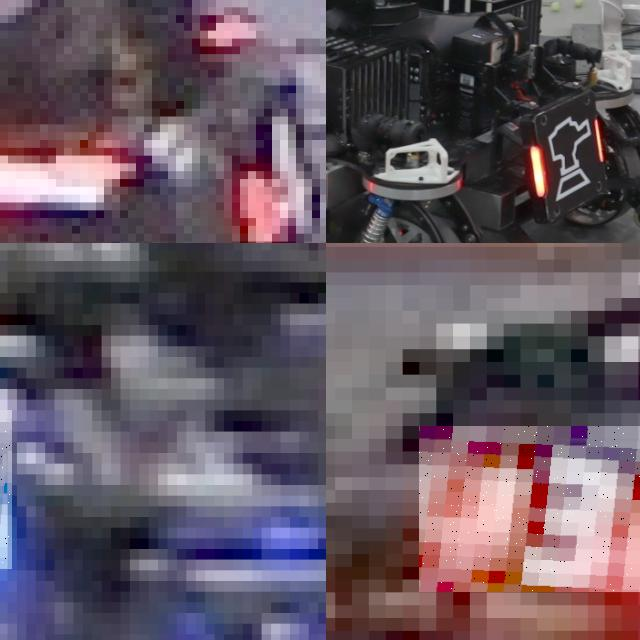R3: (419, 425, 640, 592)
Rs: (532, 109, 609, 202)
